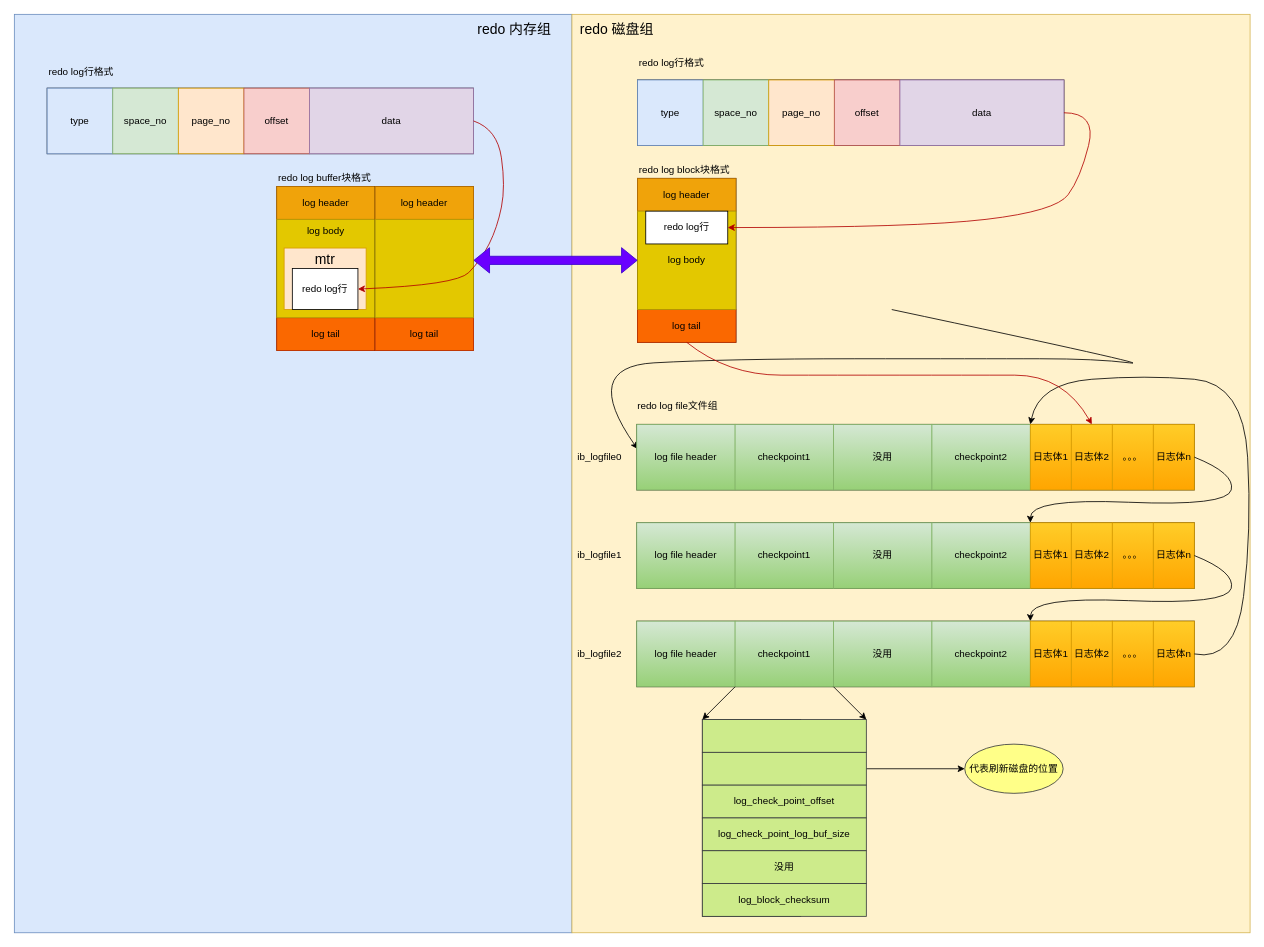
Image size: 1264x947. Some labels were removed from this diagram. The centre of each missing label's shape, as x and y in pixels:
log_check_point_lsn: the point at 784,768
log_checkpoint_no: the point at 784,735
